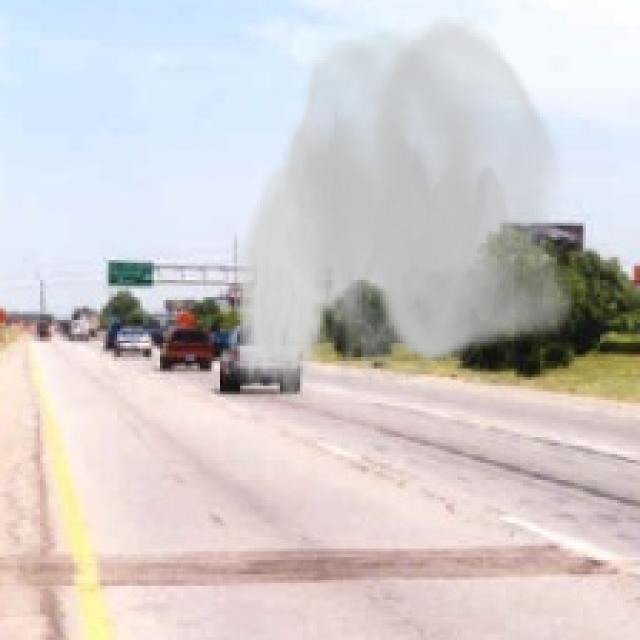smoke: (229, 6, 574, 408)
